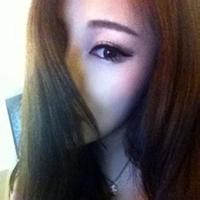face: (47, 1, 154, 143)
